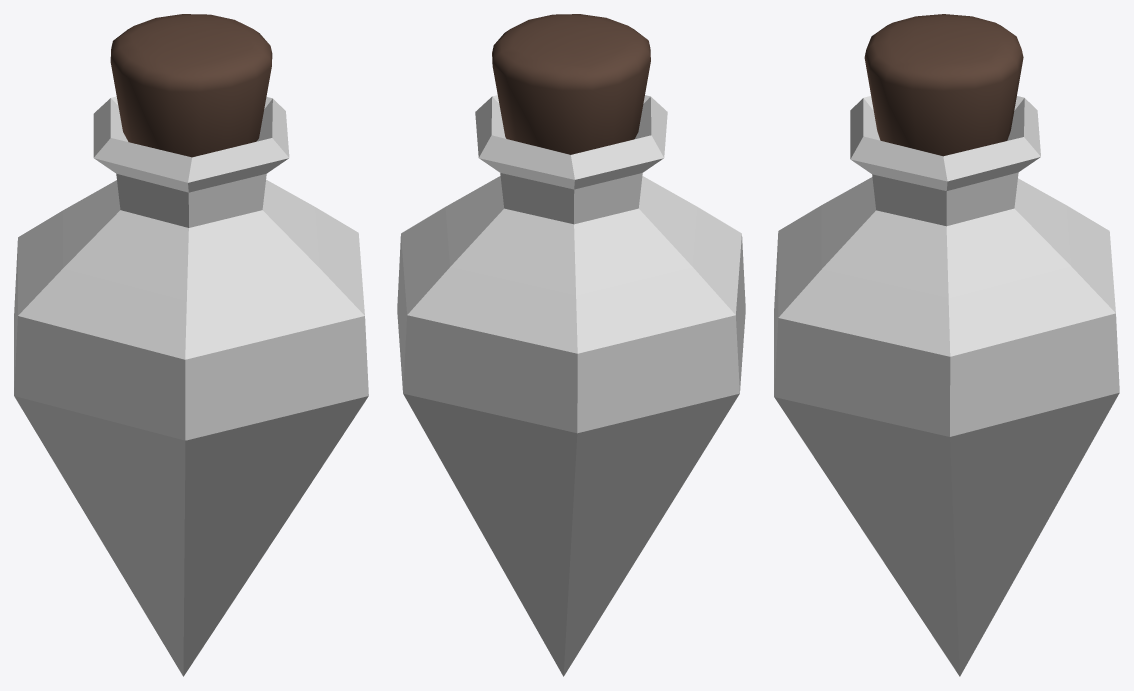
The model's file is quaternius-rpg-items-pack-potion10-filled.glb.
3 renders of one model, left to right at view 1: azimuth 30°, elevation 25°; view 2: azimuth 150°, elevation 25°; view 3: azimuth 270°, elevation 25°, orthographic.
Visible parts, largest first — view 1: Potion10_Filled; view 2: Potion10_Filled; view 3: Potion10_Filled.
Part boxes in pixels (left/top/right/bottom): Potion10_Filled: left=14, top=14, right=368, bottom=676; Potion10_Filled: left=397, top=14, right=745, bottom=676; Potion10_Filled: left=774, top=14, right=1119, bottom=676.
Size of the model in its own units: 0.4379 by 0.7742 by 0.3792.
